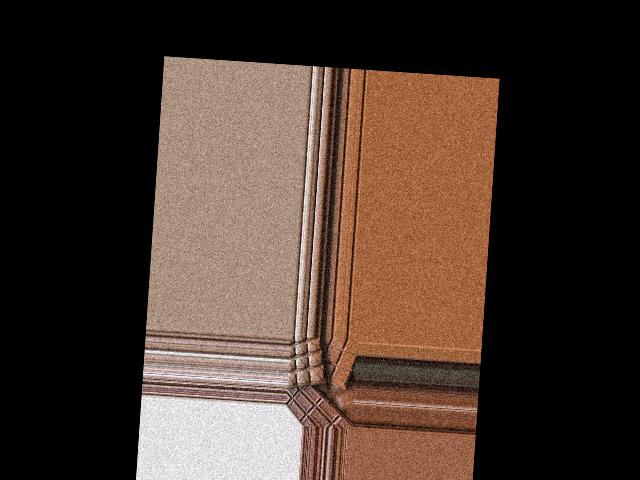chocolate: (311, 336, 354, 388)
